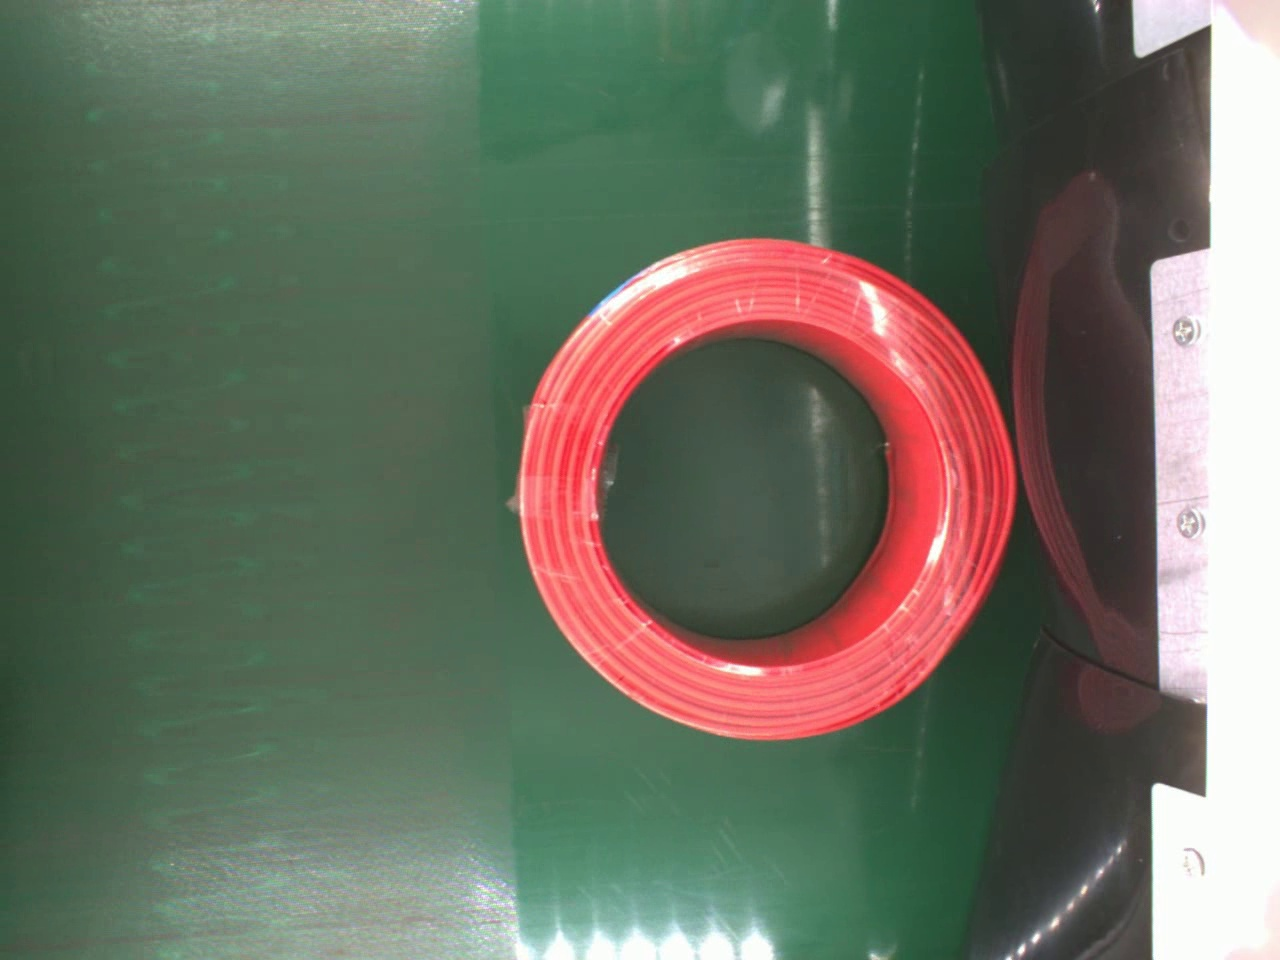red: (510, 235, 1017, 742)
